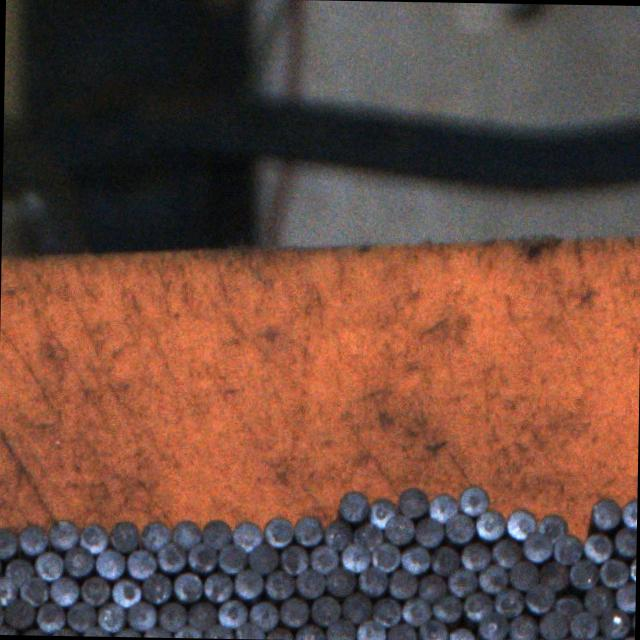tool: (107, 518, 140, 552), (338, 488, 371, 521), (339, 591, 372, 623), (1, 598, 33, 630), (16, 522, 48, 554), (262, 515, 294, 547), (538, 556, 568, 590), (64, 601, 98, 631), (276, 544, 310, 574), (599, 606, 630, 638), (492, 585, 523, 617), (429, 544, 460, 576), (551, 532, 582, 564), (413, 515, 445, 546), (589, 496, 620, 528), (457, 484, 488, 516), (34, 601, 66, 632), (278, 595, 310, 626), (172, 570, 204, 601), (94, 548, 125, 580), (322, 519, 354, 550), (505, 507, 535, 540), (535, 512, 568, 542), (355, 566, 388, 596), (369, 494, 398, 528), (427, 491, 458, 522), (156, 600, 187, 631), (309, 542, 340, 573), (537, 610, 569, 640), (430, 592, 462, 622), (582, 584, 614, 614), (414, 570, 446, 600), (508, 559, 538, 591), (598, 556, 628, 588), (399, 542, 429, 574), (521, 530, 551, 562), (384, 512, 414, 544), (397, 484, 427, 516), (310, 594, 342, 624), (264, 568, 296, 598), (2, 556, 34, 586), (78, 522, 108, 554), (216, 543, 248, 573), (139, 518, 169, 550), (200, 518, 232, 548), (232, 520, 262, 552), (400, 595, 431, 625), (553, 592, 584, 622), (445, 566, 476, 596), (473, 510, 503, 541), (109, 577, 140, 607), (142, 572, 172, 603), (33, 550, 63, 581), (47, 518, 78, 548), (64, 545, 94, 576), (125, 548, 156, 578), (506, 611, 538, 640), (218, 597, 250, 626), (16, 576, 48, 605), (570, 610, 600, 640), (462, 590, 492, 620), (523, 582, 553, 612), (387, 567, 417, 597), (568, 557, 598, 587), (460, 540, 490, 570), (96, 602, 126, 632), (126, 600, 156, 630), (48, 576, 78, 606), (202, 570, 232, 600), (234, 568, 264, 598), (296, 568, 326, 598), (326, 567, 356, 597), (171, 518, 201, 548), (354, 520, 384, 550), (477, 611, 508, 640), (491, 538, 522, 567), (582, 531, 611, 561), (186, 542, 216, 571), (248, 543, 278, 572), (342, 541, 371, 571), (476, 564, 507, 592), (385, 615, 419, 640), (157, 542, 186, 571), (445, 512, 473, 542), (250, 599, 278, 629), (79, 576, 109, 604), (370, 542, 400, 570), (188, 599, 216, 628), (294, 516, 323, 544), (372, 596, 400, 624), (356, 616, 386, 640), (612, 581, 636, 610), (232, 620, 266, 640), (326, 617, 355, 640), (613, 527, 636, 555), (417, 618, 446, 640), (295, 622, 325, 640), (202, 623, 234, 639), (264, 623, 294, 640), (0, 526, 16, 557), (620, 498, 637, 527), (445, 624, 475, 640), (0, 576, 16, 604), (173, 624, 204, 638)
